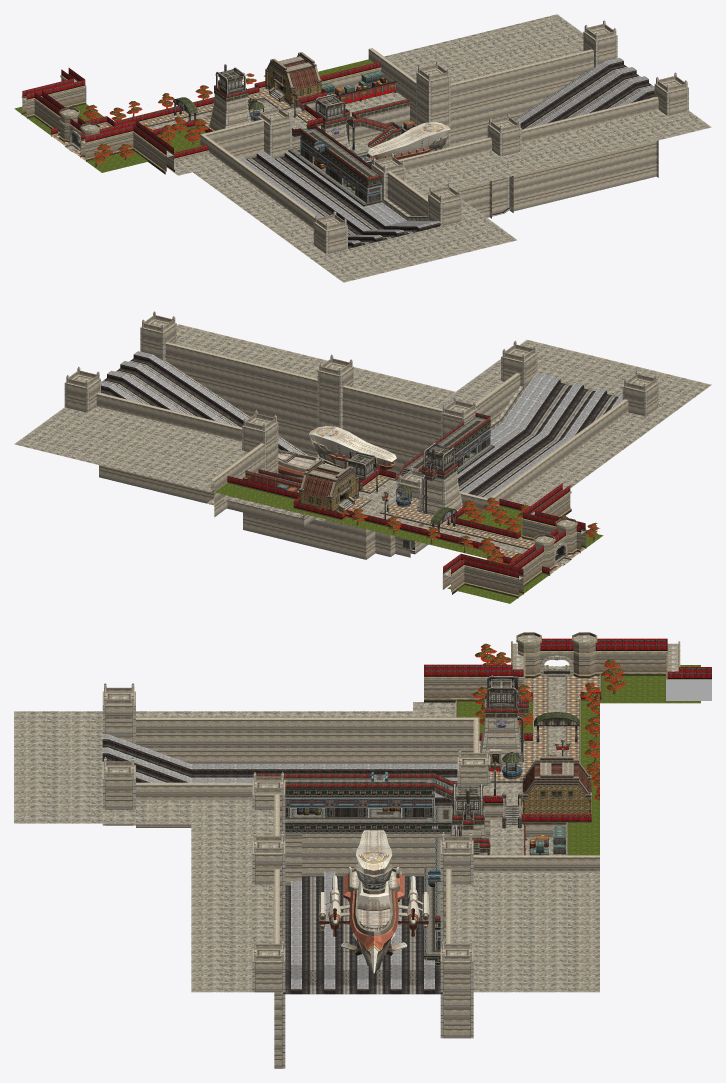
File: GrancelAirport.obj
The picture shows the model from 3 angles, top to bottom: view 1: azimuth 30°, elevation 25°; view 2: azimuth 150°, elevation 25°; view 3: azimuth 270°, elevation 25°; orthographic projection. The views are drawn at different scales.
Visible parts, largest first — view 1: Object.1, Object.2; view 2: Object.1, Object.2; view 3: Object.1, Object.2.
Boxes of the visible parts, x1=… form: Object.1: x1=52, y1=14, x2=711, y2=282; Object.2: x1=14, y1=68, x2=107, y2=136; Object.1: x1=14, y1=311, x2=711, y2=573; Object.2: x1=442, y1=545, x2=550, y2=603; Object.1: x1=14, y1=632, x2=599, y2=1068; Object.2: x1=600, y1=638, x2=711, y2=703.
Bounding box in the file's own units: 139 × 34.09 × 126.
